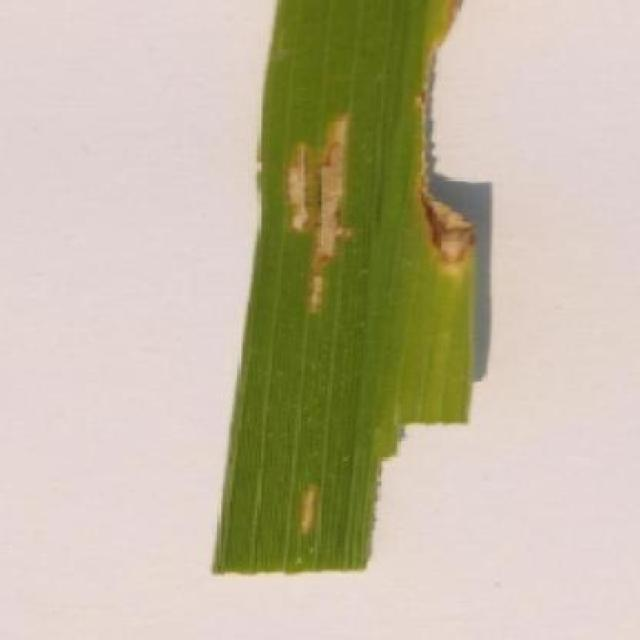Brown_Spot: (202, 0, 484, 577)
